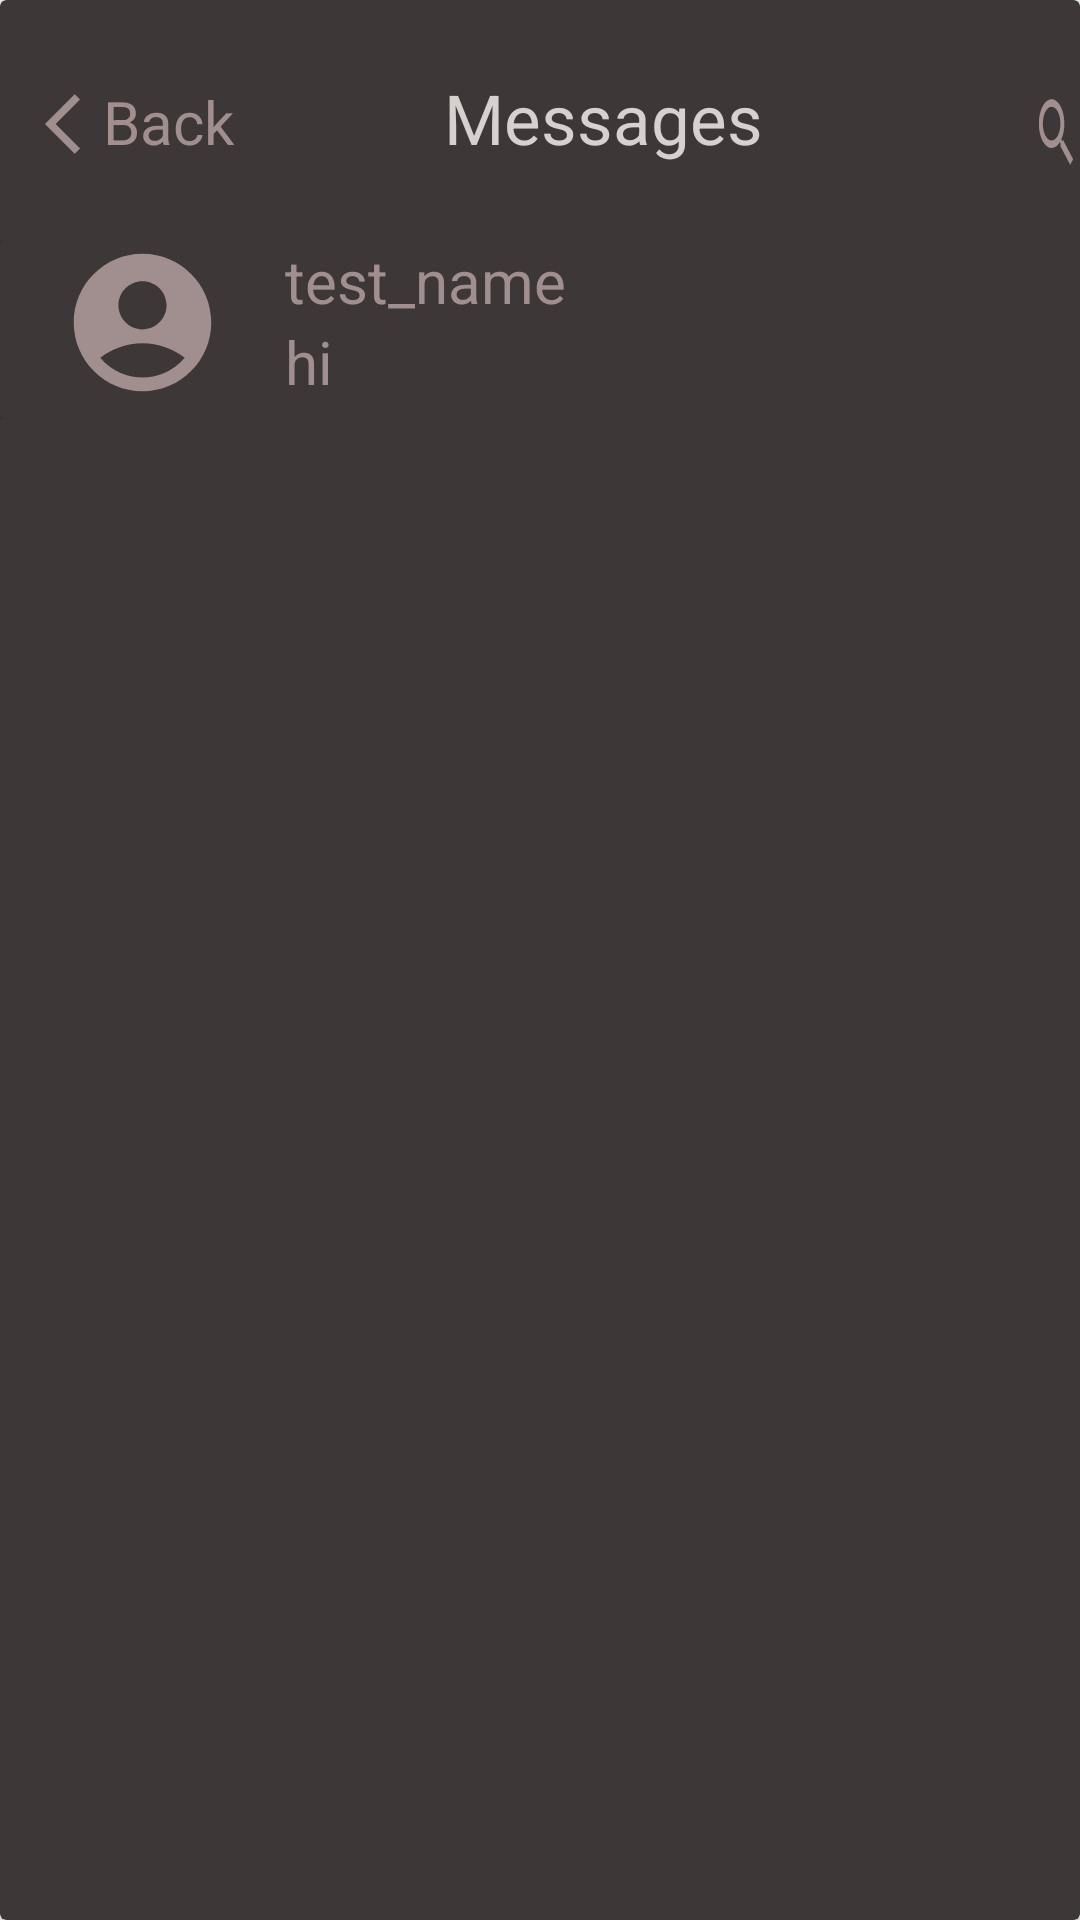

Where to tap for icons on this 1080×1920 app screen, as (x,y):
account: (142,322)
search: (1056,132)
